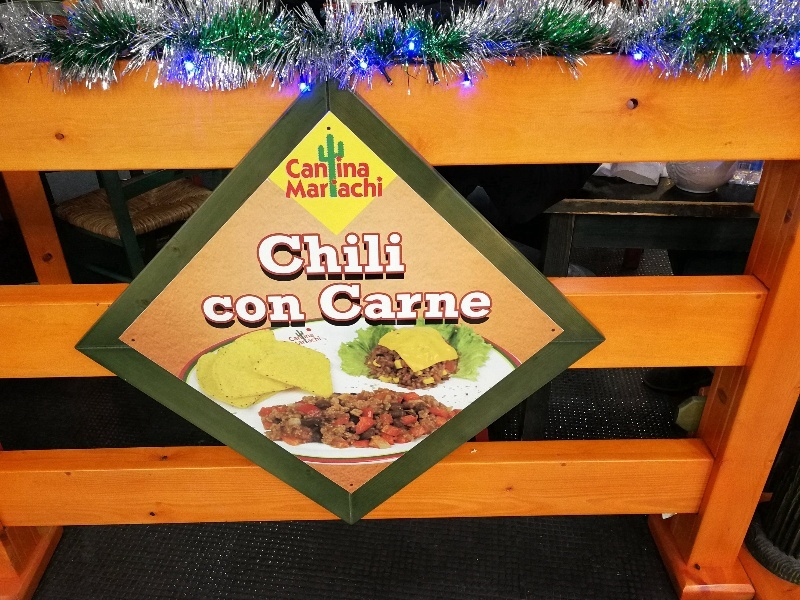text: (257, 230, 272, 282), (273, 230, 288, 282), (289, 230, 304, 282), (305, 230, 320, 282), (321, 230, 336, 282), (337, 230, 352, 282), (353, 230, 368, 282), (369, 230, 384, 282), (385, 230, 400, 282), (321, 280, 336, 332), (337, 280, 352, 332), (353, 280, 368, 332), (369, 280, 384, 332), (385, 280, 400, 332), (401, 280, 416, 332), (417, 280, 432, 332), (433, 280, 448, 332), (449, 280, 464, 332), (465, 280, 480, 332), (481, 280, 496, 332), (209, 289, 224, 334), (225, 289, 240, 334), (241, 289, 256, 334), (257, 289, 272, 334), (273, 289, 288, 334), (289, 289, 304, 334), (401, 230, 410, 282), (198, 289, 208, 334), (337, 156, 352, 181), (353, 156, 368, 181), (369, 176, 385, 199), (313, 280, 320, 332), (289, 179, 304, 202), (305, 179, 320, 202), (337, 176, 352, 199), (353, 176, 368, 199), (289, 158, 304, 180), (305, 158, 320, 180), (305, 289, 310, 334), (321, 179, 330, 202), (321, 158, 330, 180), (253, 230, 256, 282), (285, 158, 288, 180), (369, 156, 371, 181), (335, 156, 336, 181), (287, 179, 288, 202)
